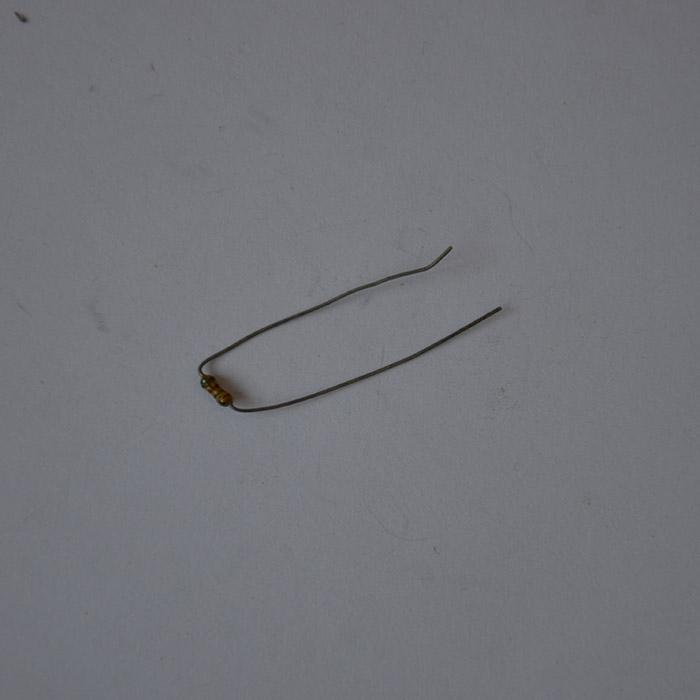resistor: (196, 371, 235, 412)
